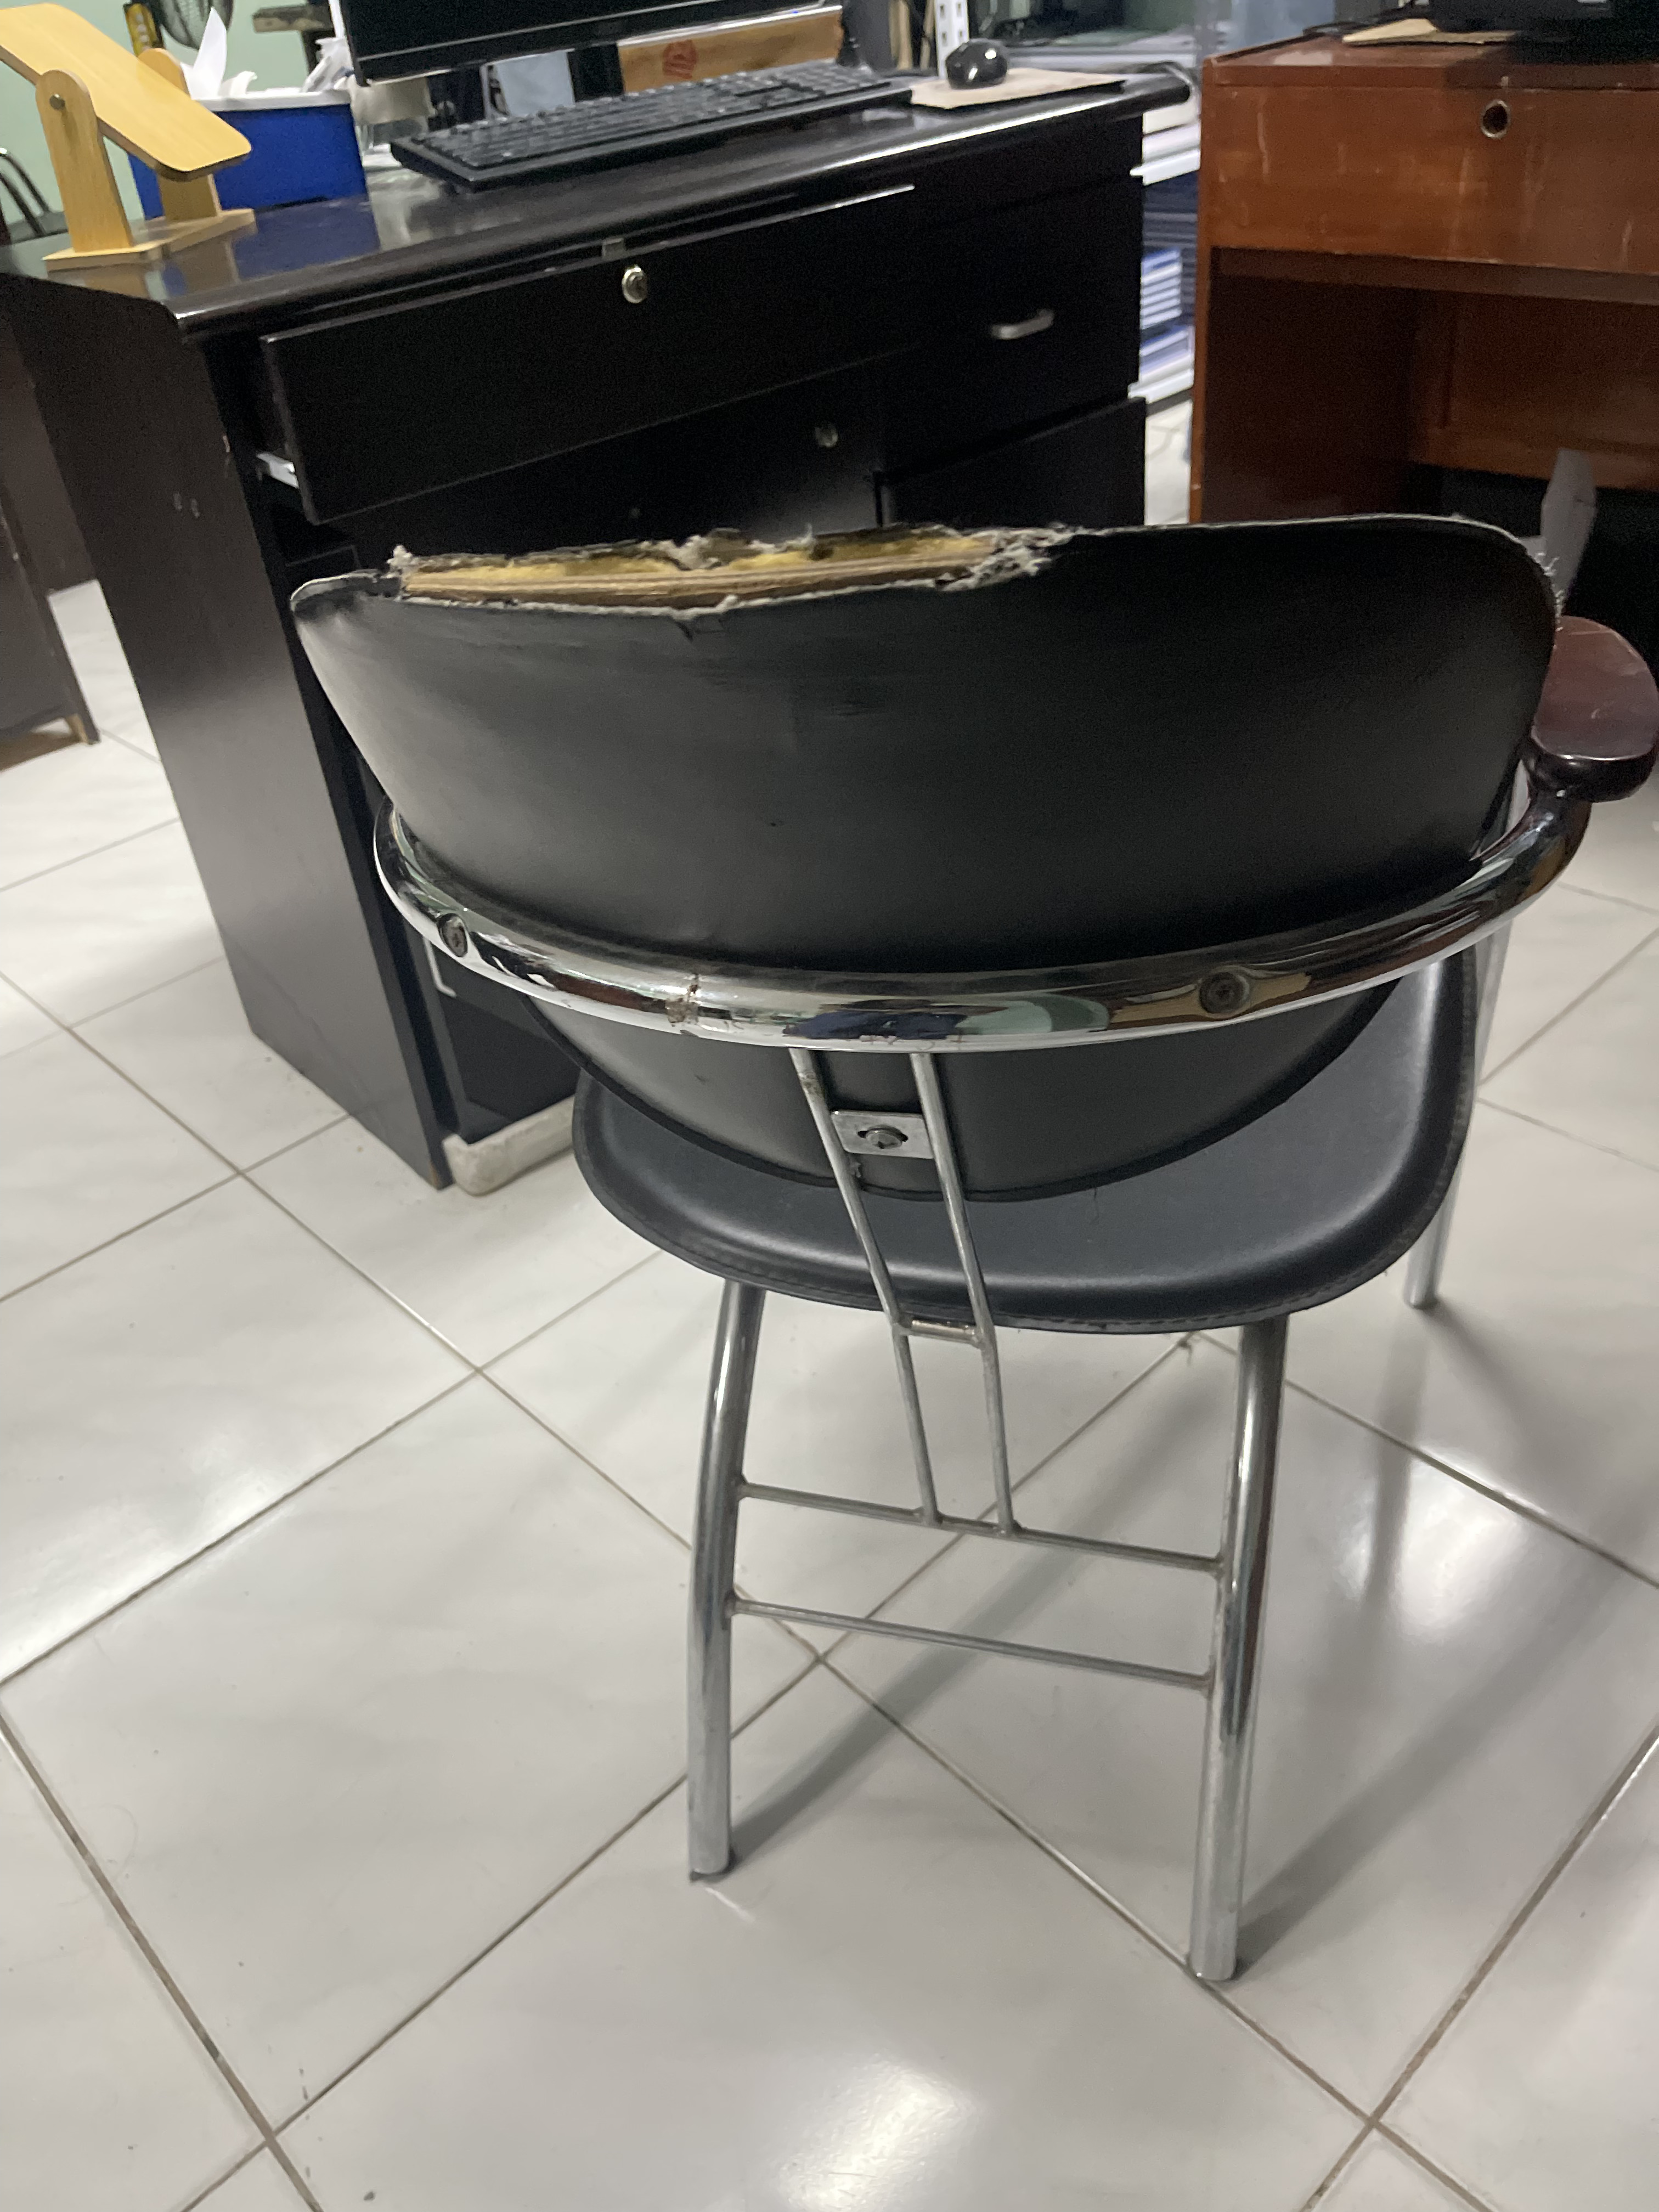chair1: (293, 495, 1659, 1991)
